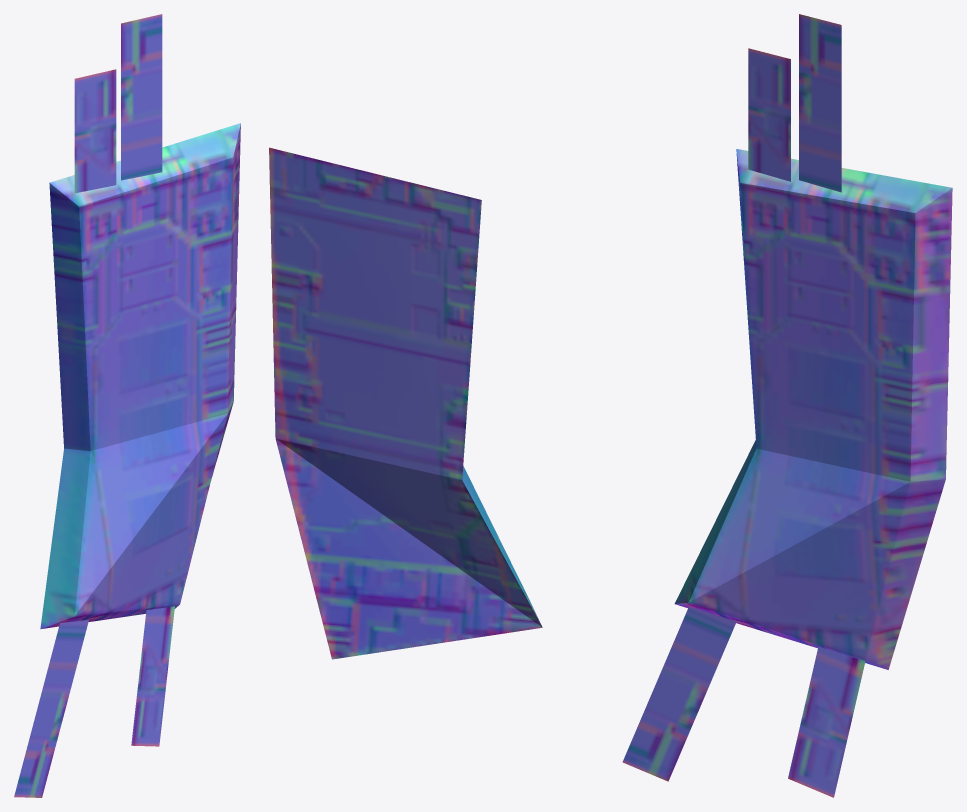
The model's file is ship_debris_05_part_06.glb.
3 renders of one model, left to right at view 1: azimuth 30°, elevation 25°; view 2: azimuth 150°, elevation 25°; view 3: azimuth 330°, elevation 25°, orthographic. The views are drawn at different scales.
Visible parts, largest first — view 1: ship_debris_05_part_06; view 2: ship_debris_05_part_06; view 3: ship_debris_05_part_06.
Boxes of the visible parts, x1,y1,x2,y2 form: ship_debris_05_part_06: (14,14,240,797); ship_debris_05_part_06: (269,147,542,659); ship_debris_05_part_06: (622,14,952,797).
Bounding box in the file's own units: 1.65 × 4.3 × 0.4847.
Materials: 1 (1 with a texture image).
